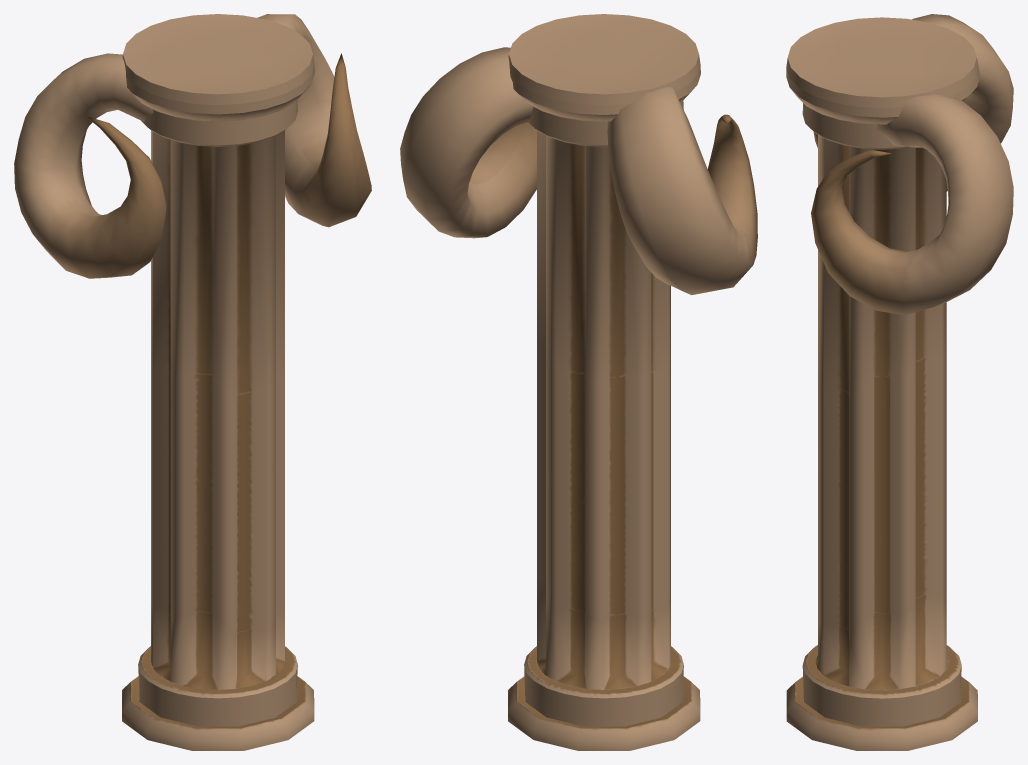
Rendered from Pilar.fbx.
3 views of the same model, side by side, from view 1: azimuth 30°, elevation 25°; view 2: azimuth 150°, elevation 25°; view 3: azimuth 270°, elevation 25° (orthographic).
Parts seen in each view (by area): view 1: Pillar_Top; view 2: Pillar_Top; view 3: Pillar_Top.
Boxes of the visible parts, <box> form: Pillar_Top: <box>14,14,371,750</box>; Pillar_Top: <box>400,14,757,750</box>; Pillar_Top: <box>786,14,1013,750</box>.
Bounding box in the file's own units: 384 × 230 × 727.
Materials: 3 (3 with a texture image).
